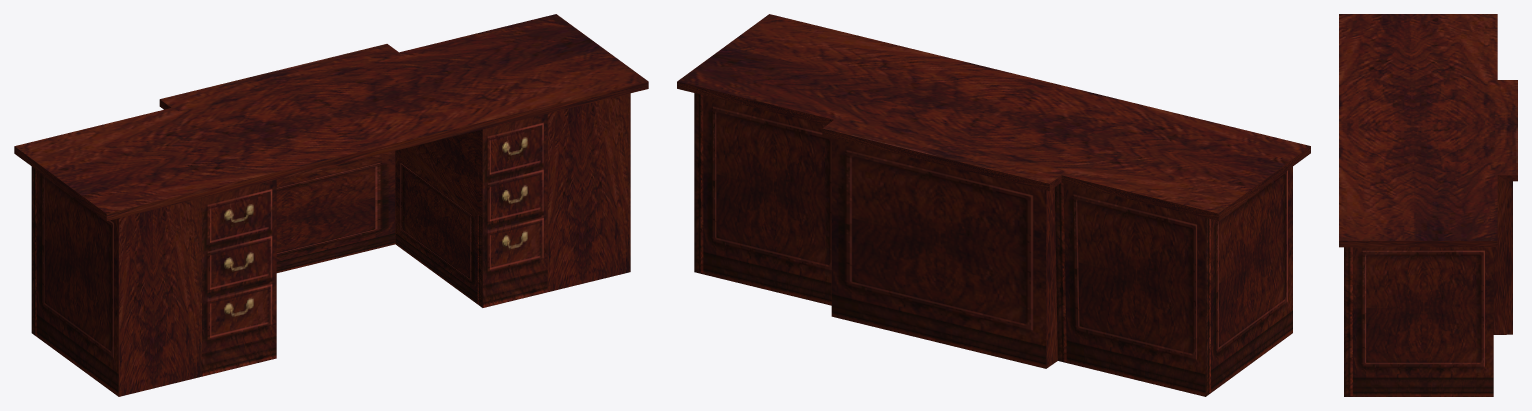
File: desk_lrg_hi_brnwd.fbx
The picture shows the model from 3 angles, left to right: view 1: azimuth 30°, elevation 25°; view 2: azimuth 150°, elevation 25°; view 3: azimuth 270°, elevation 25°; orthographic projection. The views are drawn at different scales.
Visible parts, largest first — view 1: mesh_0; view 2: mesh_0; view 3: mesh_0.
Part boxes in pixels (box(x1,y1,x2,y2)): mesh_0: box(14, 14, 648, 396); mesh_0: box(677, 14, 1310, 396); mesh_0: box(1339, 14, 1517, 396).
Bounding box in the file's own units: 240 × 80 × 80.
Materials: 1 (1 with a texture image).
